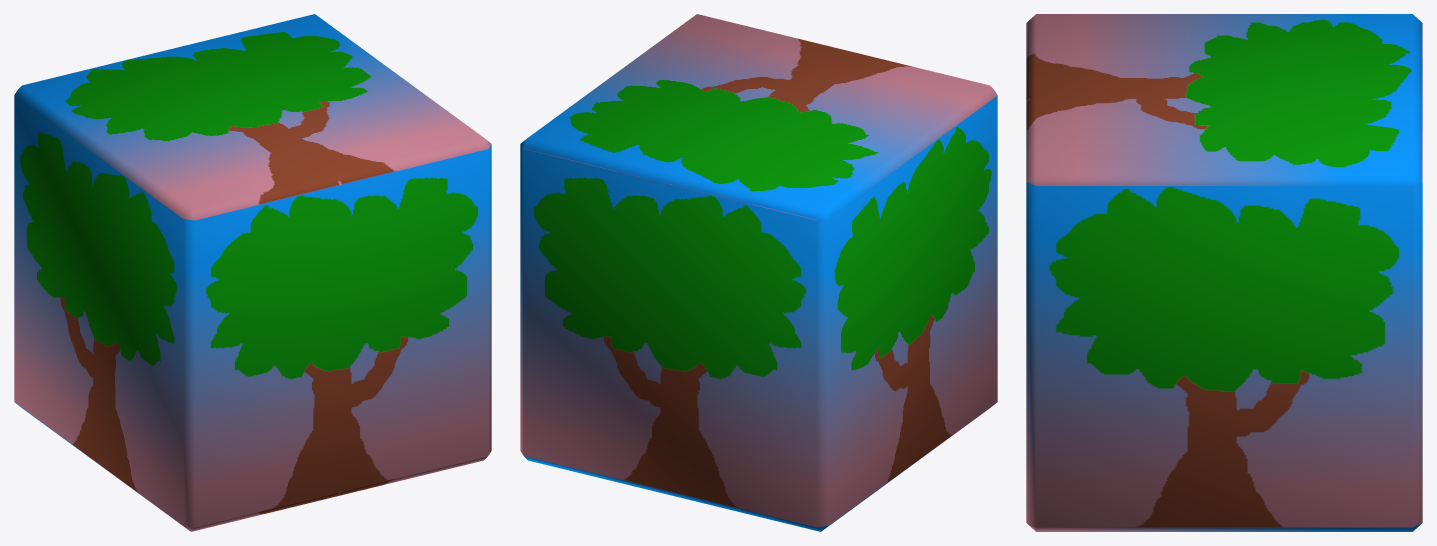
File: happy-cube.obj
3 renders of one model, left to right at view 1: azimuth 30°, elevation 25°; view 2: azimuth 150°, elevation 25°; view 3: azimuth 270°, elevation 25°, orthographic. The views are drawn at different scales.
Parts seen in each view (by area): view 1: Cube; view 2: Cube; view 3: Cube.
Part boxes in pixels (bbox=[...]): Cube: bbox=[14, 14, 491, 531]; Cube: bbox=[520, 14, 997, 531]; Cube: bbox=[1026, 14, 1422, 531].
Size of the model in its own units: 2 by 2 by 2.
1 material, 1 textured.
